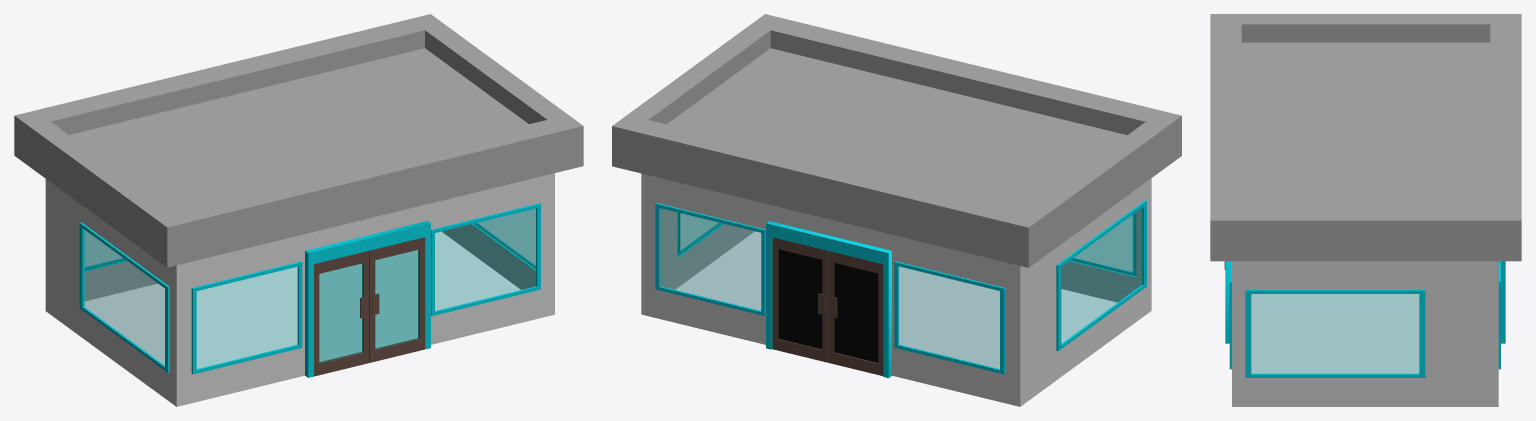
The model's file is Building_Generic_Mod_01.fbx.
3 renders of one model, left to right at view 1: azimuth 30°, elevation 25°; view 2: azimuth 150°, elevation 25°; view 3: azimuth 270°, elevation 25°, orthographic.
Parts seen in each view (by area): view 1: Building9, Door4, Door5; view 2: Building9; view 3: Building9.
Part boxes in pixels (x1,y1,x2,y2): Building9: (14,14,583,406); Door4: (369,237,425,362); Door5: (314,251,369,376); Building9: (612,14,1181,406); Building9: (1210,14,1521,406).
Size of the model in its own units: 5.5 by 2.43 by 3.5.
